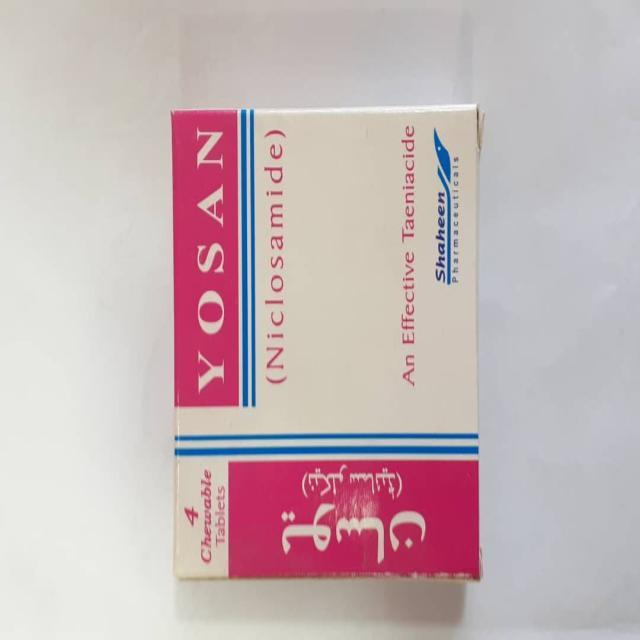drug-name: (190, 119, 229, 393)
